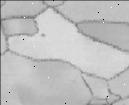good_void: (39, 32, 45, 38)
